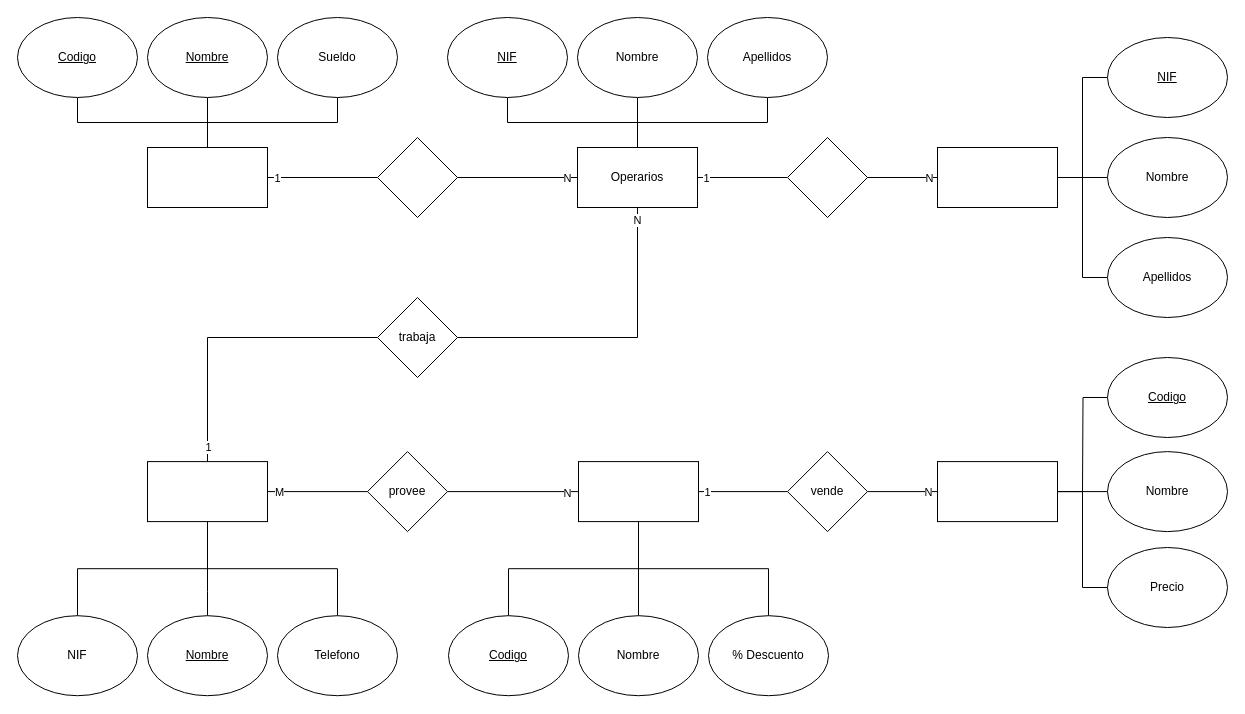
Some shapes in this 1245 by 714 pixel diagram are drawn without their labels. Each missing label, with the box of its shape:
Categorias: (146, 146, 268, 208)
conviven: (786, 136, 868, 218)
Empresas: (146, 461, 268, 522)
Familiares: (936, 146, 1058, 208)
pertenece: (376, 136, 458, 218)
Productos: (936, 461, 1058, 522)
Proveedores: (578, 461, 698, 522)
